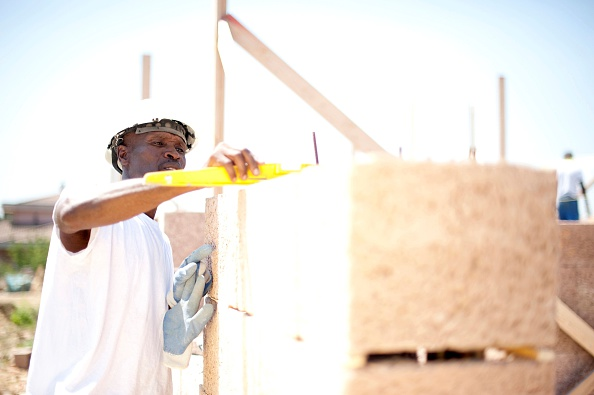em pe: (23, 85, 260, 395)
